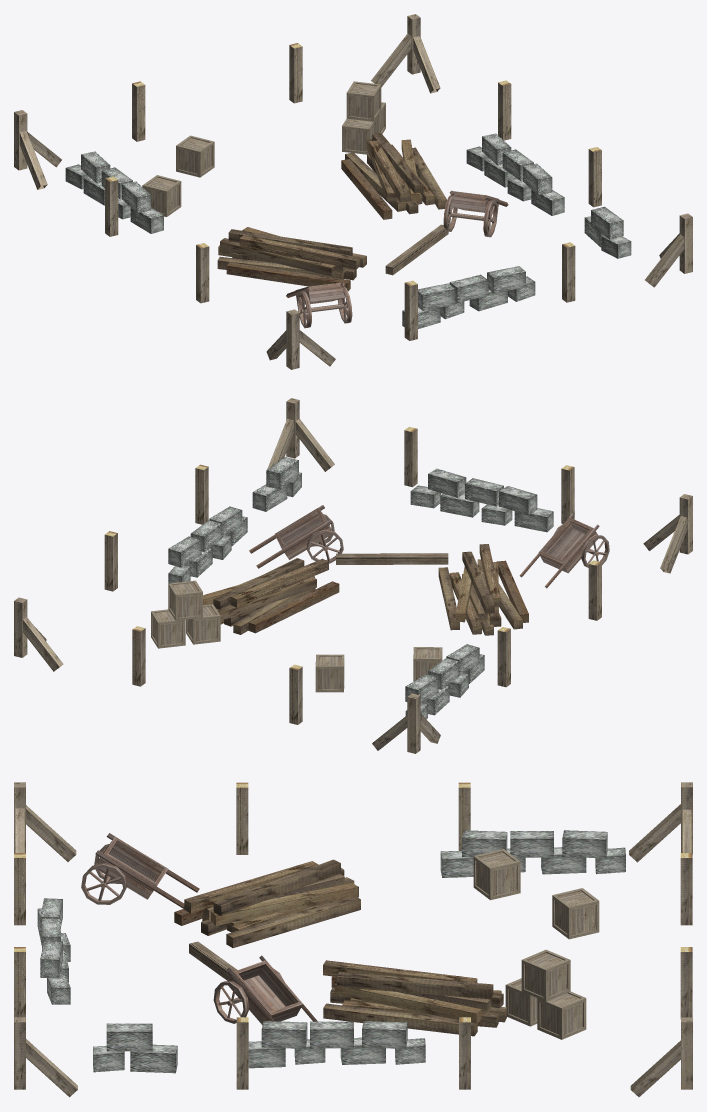
The model's file is fndn_5x6.glb.
3 views of the same model, one above another, from view 1: azimuth 30°, elevation 25°; view 2: azimuth 150°, elevation 25°; view 3: azimuth 270°, elevation 25° (orthographic). The views are drawn at different scales.
Visible parts, largest first — view 1: fndn_5x6_part25, fndn_5x6_part26, fndn_5x6_part16, fndn_5x6_part14, fndn_5x6_part15, fndn_5x6_part4, fndn_5x6_part1, fndn_5x6_part17, fndn_5x6_part18, fndn_5x6_part13, fndn_5x6_part2, fndn_5x6_part3 (+13 smaller); view 2: fndn_5x6_part26, fndn_5x6_part25, fndn_5x6_part16, fndn_5x6_part14, fndn_5x6_part15, fndn_5x6_part17, fndn_5x6_part18, fndn_5x6_part3, fndn_5x6_part13, fndn_5x6_part2, fndn_5x6_part1, fndn_5x6_part4 (+14 smaller); view 3: fndn_5x6_part26, fndn_5x6_part25, fndn_5x6_part14, fndn_5x6_part15, fndn_5x6_part18, fndn_5x6_part17, fndn_5x6_part13, fndn_5x6_part16, fndn_5x6_part22, fndn_5x6_part19, fndn_5x6_part20, fndn_5x6_part24 (+14 smaller).
Part boxes in pixels (x1,y1,x2,y2): fndn_5x6_part25: [217, 227, 366, 291]; fndn_5x6_part26: [341, 132, 447, 219]; fndn_5x6_part16: [402, 266, 535, 328]; fndn_5x6_part14: [466, 133, 564, 215]; fndn_5x6_part15: [65, 151, 163, 233]; fndn_5x6_part4: [371, 14, 440, 93]; fndn_5x6_part1: [14, 110, 61, 189]; fndn_5x6_part17: [286, 282, 352, 328]; fndn_5x6_part18: [443, 190, 508, 237]; fndn_5x6_part13: [584, 206, 631, 258]; fndn_5x6_part2: [266, 309, 335, 369]; fndn_5x6_part3: [645, 213, 692, 287]; fndn_5x6_part26: [203, 558, 339, 634]; fndn_5x6_part25: [438, 544, 528, 635]; fndn_5x6_part16: [410, 468, 553, 532]; fndn_5x6_part14: [168, 506, 247, 583]; fndn_5x6_part15: [405, 644, 484, 719]; fndn_5x6_part17: [519, 513, 609, 588]; fndn_5x6_part18: [249, 505, 343, 568]; fndn_5x6_part3: [266, 398, 334, 472]; fndn_5x6_part13: [252, 457, 301, 511]; fndn_5x6_part2: [643, 494, 692, 573]; fndn_5x6_part1: [372, 693, 440, 753]; fndn_5x6_part4: [14, 597, 63, 671]; fndn_5x6_part26: [323, 960, 506, 1036]; fndn_5x6_part25: [174, 859, 360, 947]; fndn_5x6_part14: [248, 1021, 425, 1068]; fndn_5x6_part15: [440, 830, 625, 877]; fndn_5x6_part18: [213, 955, 317, 1024]; fndn_5x6_part17: [81, 833, 199, 908]; fndn_5x6_part13: [93, 1023, 177, 1073]; fndn_5x6_part16: [37, 898, 70, 1004]; fndn_5x6_part22: [521, 949, 570, 1001]; fndn_5x6_part19: [473, 849, 520, 900]; fndn_5x6_part20: [552, 888, 599, 939]; fndn_5x6_part24: [537, 991, 586, 1039].
Bounding box in the file's own units: 4.29 × 0.971 × 5.13.
Materials: 5 (5 with a texture image).
